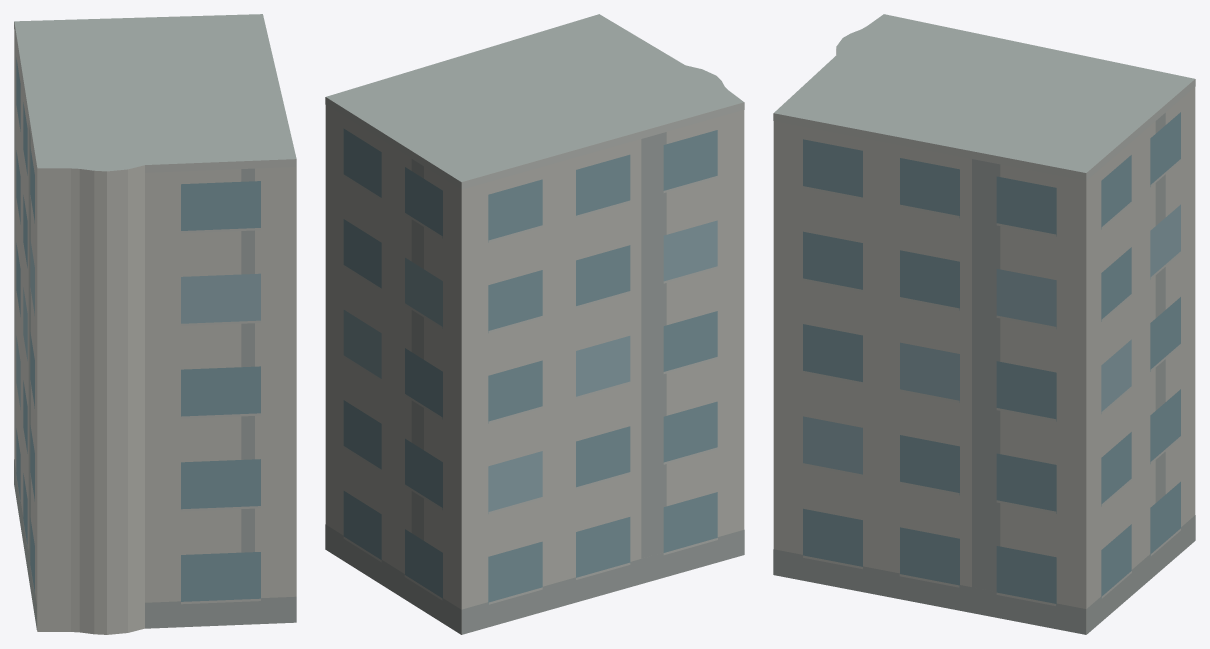
File: survey-upis-32728731.glb
3 views of the same model, side by side, from view 1: azimuth 30°, elevation 25°; view 2: azimuth 150°, elevation 25°; view 3: azimuth 270°, elevation 25° (orthographic). The views are drawn at different scales.
Visible parts, largest first — view 1: survey-upis-32728731.tmp; view 2: survey-upis-32728731.tmp; view 3: survey-upis-32728731.tmp.
Boxes of the visible parts, x1,y1,x2,y2 form: survey-upis-32728731.tmp: (14, 14, 296, 634); survey-upis-32728731.tmp: (325, 14, 744, 634); survey-upis-32728731.tmp: (773, 14, 1195, 634).
Bounding box in the file's own units: 10.65 × 14.4 × 11.93.
